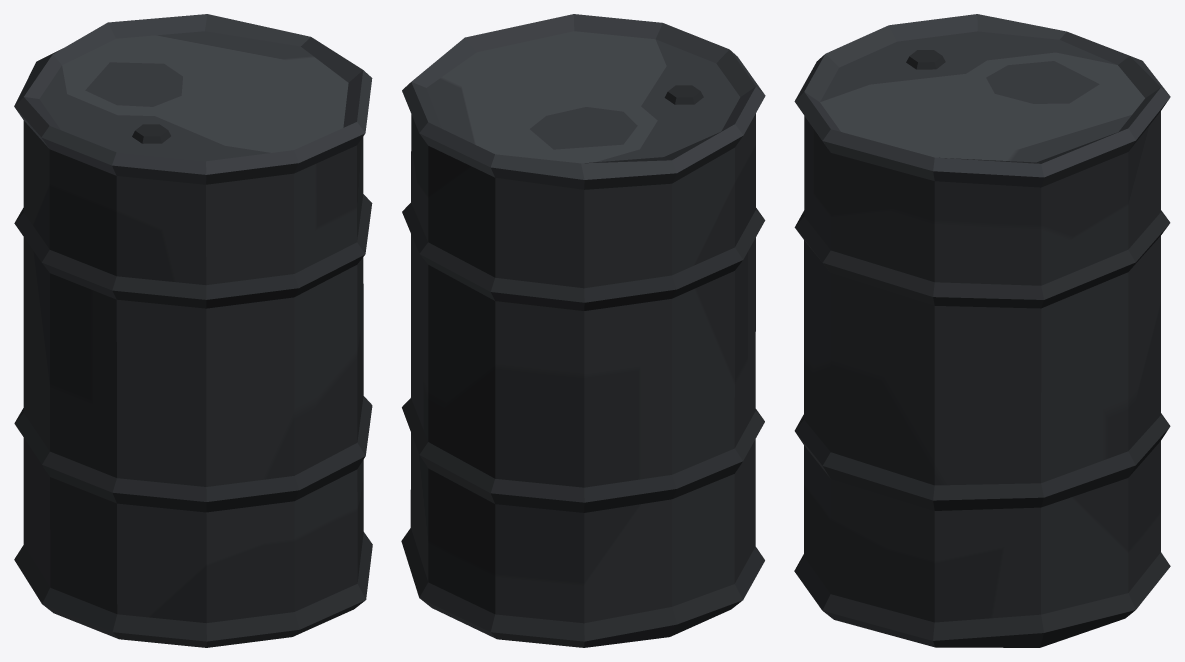
The model's file is SM_Prop_Barrel_03.glb.
3 views of the same model, side by side, from view 1: azimuth 30°, elevation 25°; view 2: azimuth 150°, elevation 25°; view 3: azimuth 270°, elevation 25° (orthographic).
Parts seen in each view (by area): view 1: SM_Prop_Barrel_03; view 2: SM_Prop_Barrel_03; view 3: SM_Prop_Barrel_03.
Boxes of the visible parts, x1,y1,x2,y2 form: SM_Prop_Barrel_03: (14,14,372,647); SM_Prop_Barrel_03: (401,14,765,647); SM_Prop_Barrel_03: (794,14,1170,647).
Bounding box in the file's own units: 0.6949 × 1.05 × 0.7261.
1 material, 1 textured.
